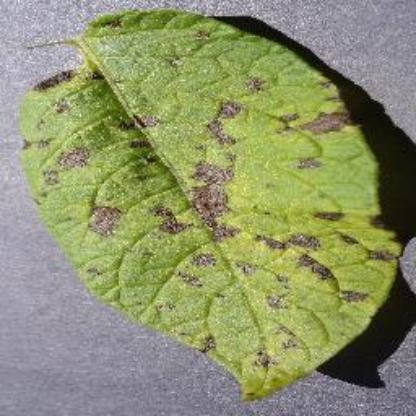Early-Blight: (19, 7, 405, 399)
